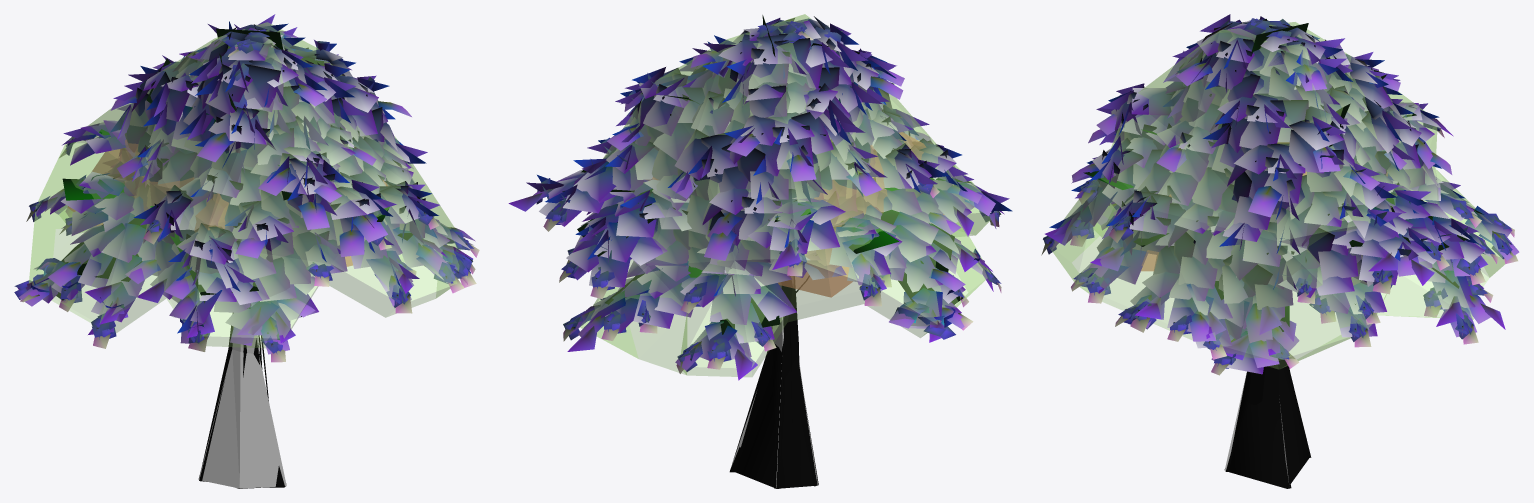
File: tro_tree_2_medium.dae
The picture shows the model from 3 angles, left to right: view 1: azimuth 30°, elevation 25°; view 2: azimuth 150°, elevation 25°; view 3: azimuth 270°, elevation 25°; orthographic projection.
Visible parts, largest first — view 1: tree_oak_bush_a550, Colmesh-1, tree_oak_bush_a250; view 2: tree_oak_bush_a550, Colmesh-1, tree_oak_bush_a250; view 3: tree_oak_bush_a550, Colmesh-1, tree_oak_bush_a250.
Part boxes in pixels (x1,y1,x2,y2): tree_oak_bush_a550: (14,14,479,488); Colmesh-1: (29,22,460,488); tree_oak_bush_a250: (20,27,473,449); tree_oak_bush_a550: (508,15,1012,488); Colmesh-1: (580,14,999,487); tree_oak_bush_a250: (543,18,1001,488); tree_oak_bush_a550: (1041,14,1519,488); Colmesh-1: (1050,22,1504,484); tree_oak_bush_a250: (1043,19,1514,488).
Bounding box in the file's own units: 13.77 × 14.15 × 14.55.
